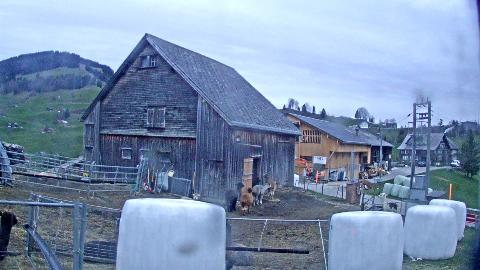car: (450, 160, 460, 166), (418, 161, 426, 167)
sheep: (0, 210, 20, 258), (82, 240, 118, 264), (226, 242, 254, 266), (227, 182, 245, 212), (252, 182, 272, 206), (378, 193, 398, 213), (240, 187, 254, 215), (264, 173, 276, 199), (12, 164, 28, 173), (182, 193, 200, 200), (39, 171, 57, 177)
